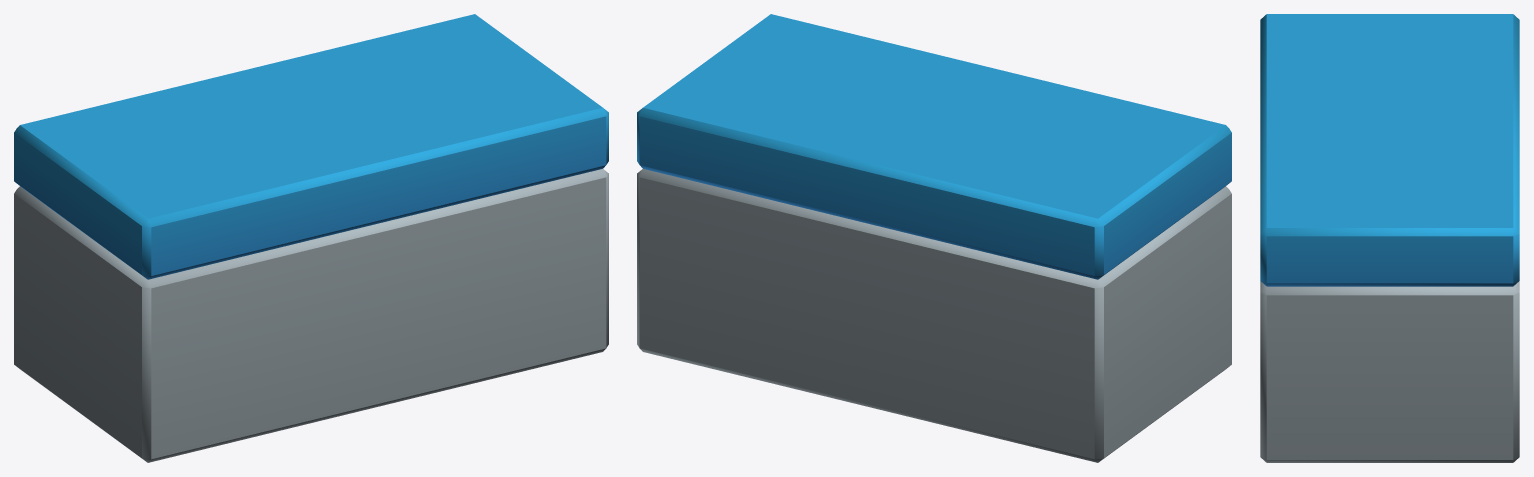
The model's file is platform_4x2x2_blue.glb.
The picture shows the model from 3 angles, left to right: view 1: azimuth 30°, elevation 25°; view 2: azimuth 150°, elevation 25°; view 3: azimuth 270°, elevation 25°; orthographic projection. The views are drawn at different scales.
Parts seen in each view (by area): view 1: platform_4x2x2_blue; view 2: platform_4x2x2_blue; view 3: platform_4x2x2_blue.
Part boxes in pixels (left/top/right/bottom): platform_4x2x2_blue: left=14, top=14, right=608, bottom=462; platform_4x2x2_blue: left=637, top=14, right=1231, bottom=462; platform_4x2x2_blue: left=1260, top=14, right=1519, bottom=462.
Size of the model in its own units: 4 by 2 by 2.
1 material, 1 textured.
